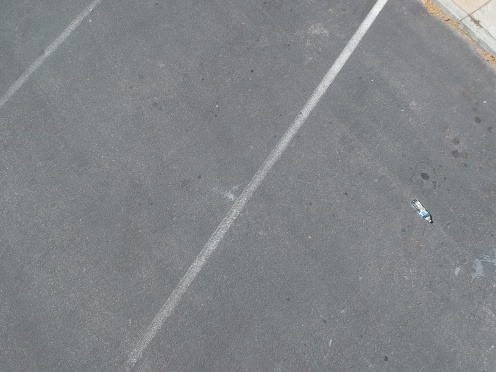bottle: (408, 197, 439, 227)
